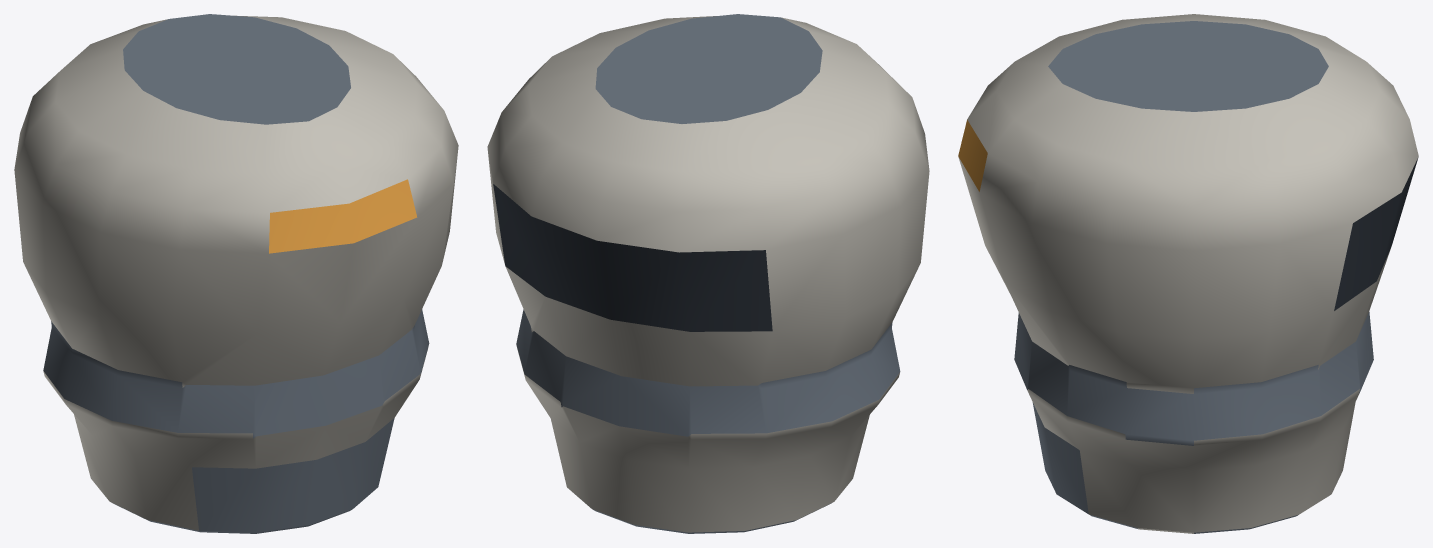
Rendered from torso_heavy.glb.
The picture shows the model from 3 angles, left to right: view 1: azimuth 30°, elevation 25°; view 2: azimuth 150°, elevation 25°; view 3: azimuth 270°, elevation 25°; orthographic projection.
Visible parts, largest first — view 1: torso_heavy; view 2: torso_heavy; view 3: torso_heavy.
Part boxes in pixels (x1,y1,x2,y2): torso_heavy: (14,14,458,533); torso_heavy: (487,14,929,533); torso_heavy: (958,14,1418,533).
Size of the model in its own units: 1 by 1 by 1.02.
